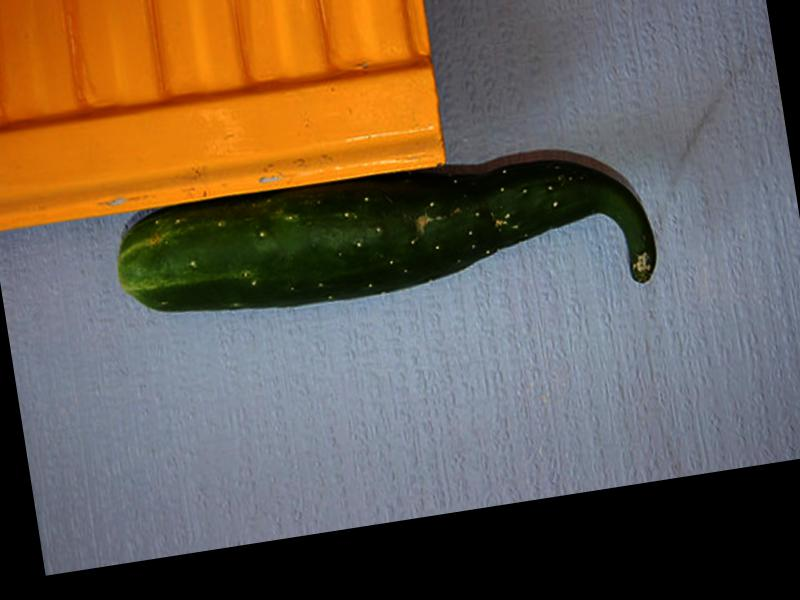Cucumber: (113, 133, 662, 362)
